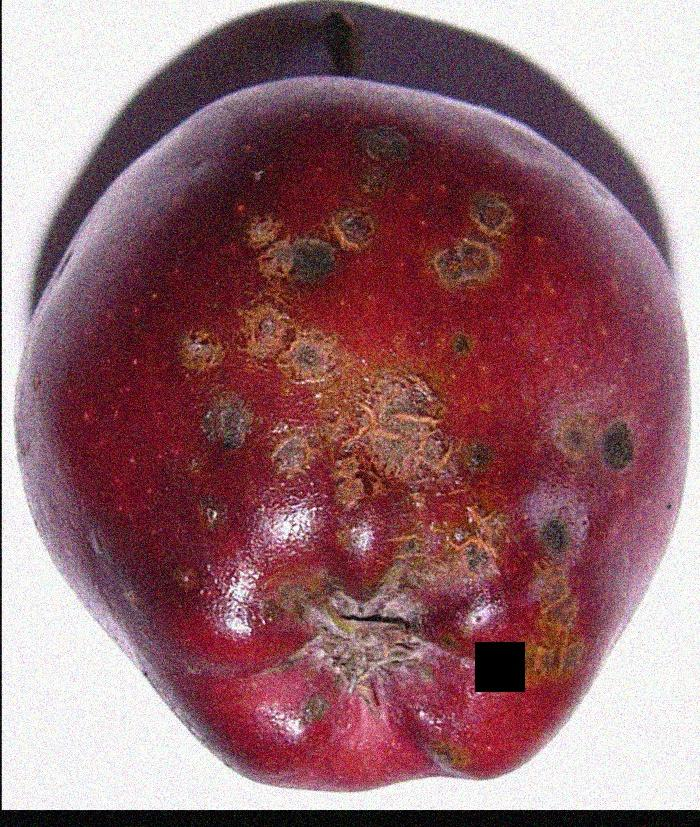rotten apple: (14, 55, 694, 792)
